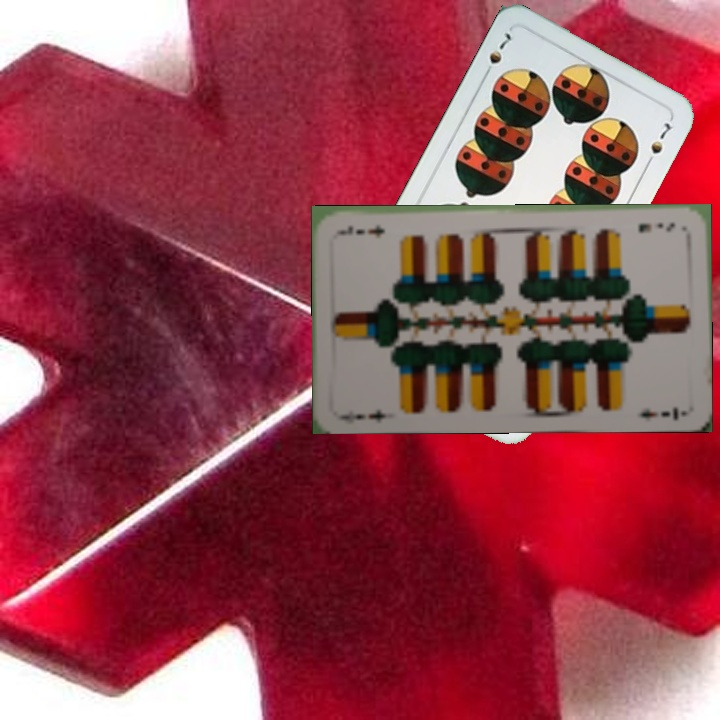E7: (350, 405, 389, 425), (634, 219, 677, 235)
S7: (479, 25, 515, 80)
